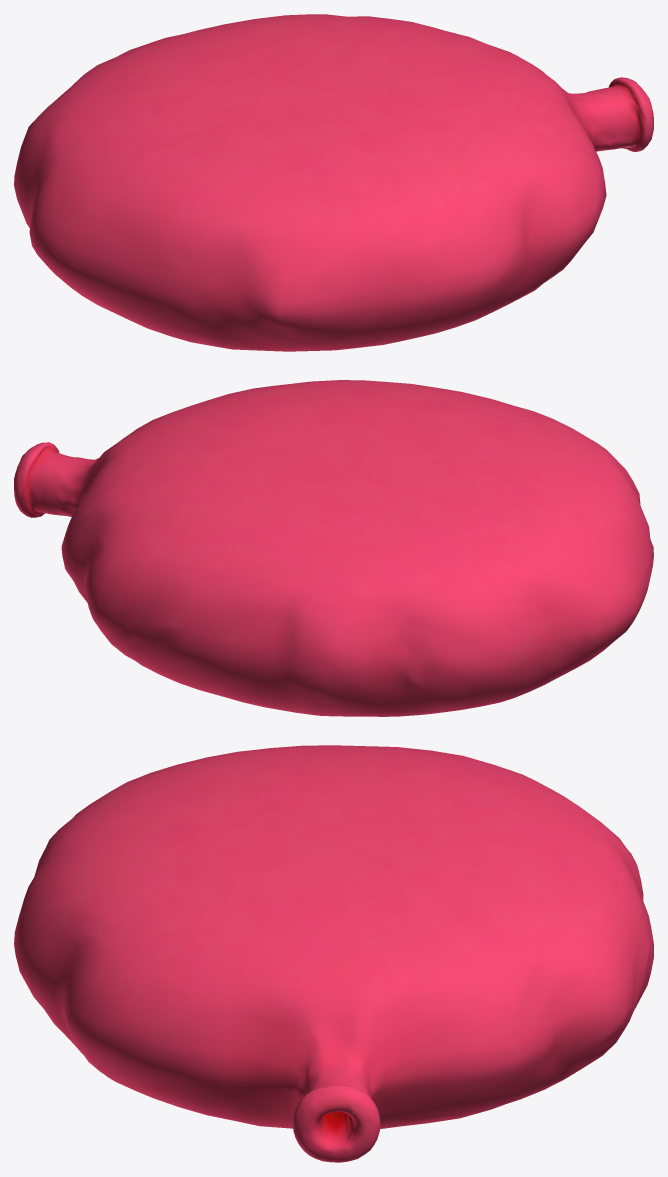
The model's file is cushion.glb.
The picture shows the model from 3 angles, top to bottom: view 1: azimuth 30°, elevation 25°; view 2: azimuth 150°, elevation 25°; view 3: azimuth 270°, elevation 25°; orthographic projection. The views are drawn at different scales.
Parts seen in each view (by area): view 1: geometry_0; view 2: geometry_0; view 3: geometry_0.
Boxes of the visible parts, bbox=[...] form: geometry_0: bbox=[14, 14, 653, 351]; geometry_0: bbox=[14, 380, 653, 716]; geometry_0: bbox=[14, 745, 653, 1162].
Bounding box in the file's own units: 0.9536 × 0.3003 × 0.7842.
Materials: 1 (1 with a texture image).
